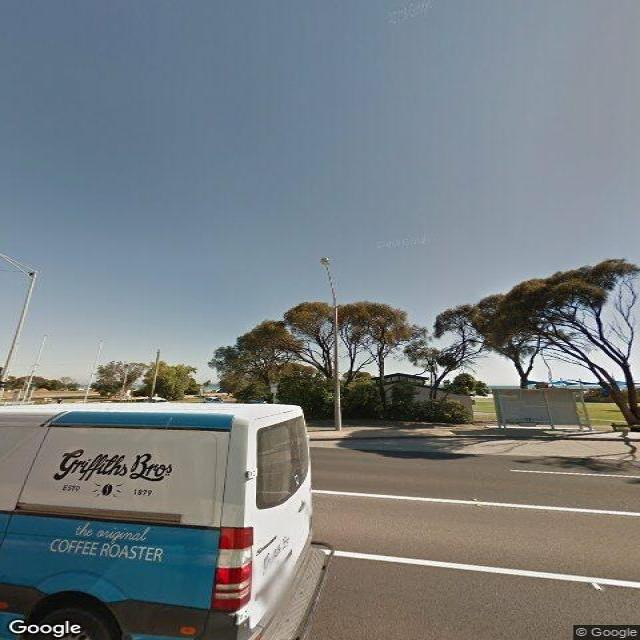steel-pole: (1, 270, 38, 401), (334, 306, 343, 430)
streetlight: (0, 253, 37, 280), (320, 256, 338, 306)
timber-pole: (148, 348, 161, 396)
